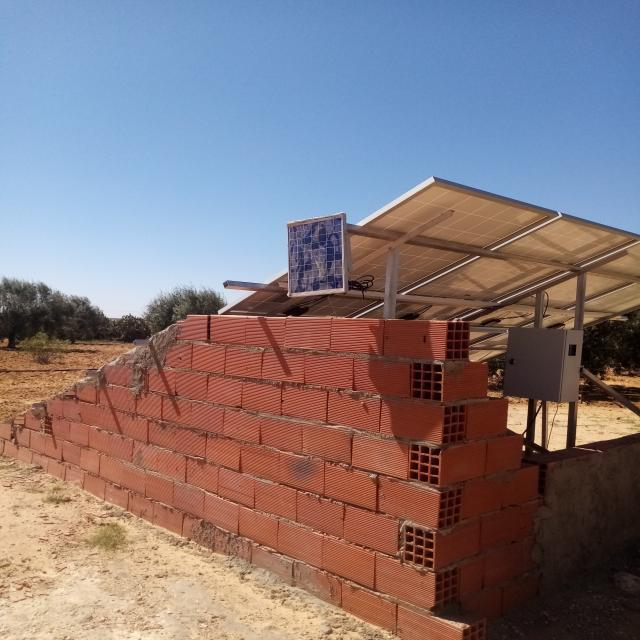faulty: (287, 213, 344, 296)
